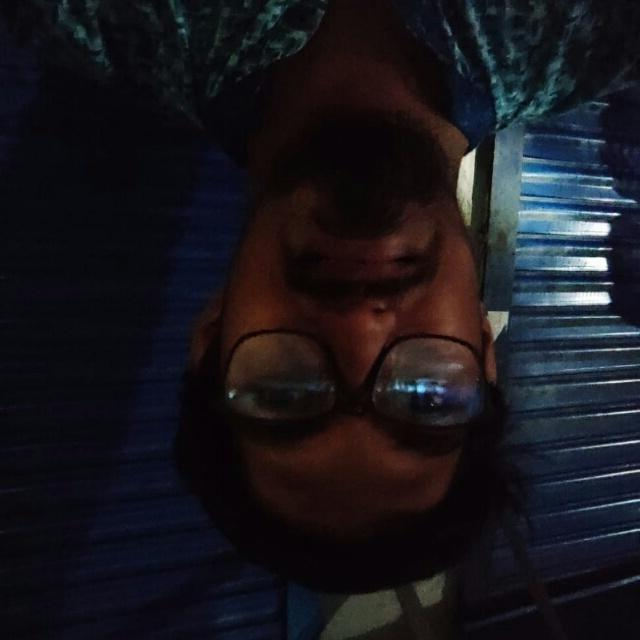Disgust: (163, 107, 556, 545)
